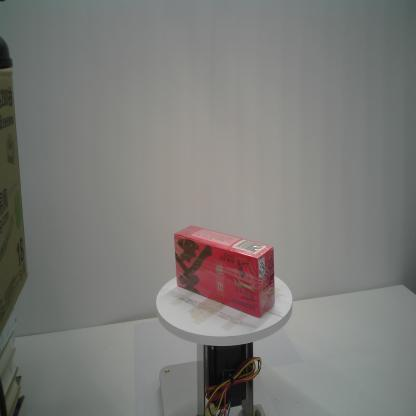Instant Drink: (173, 224, 276, 319)
